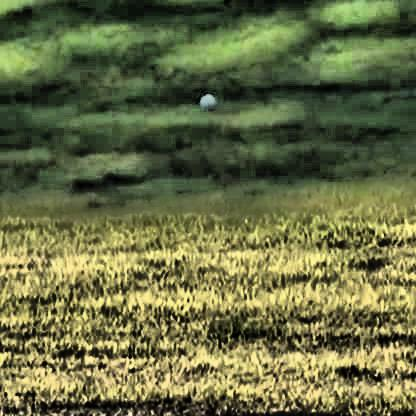golfball: (197, 90, 216, 108)
